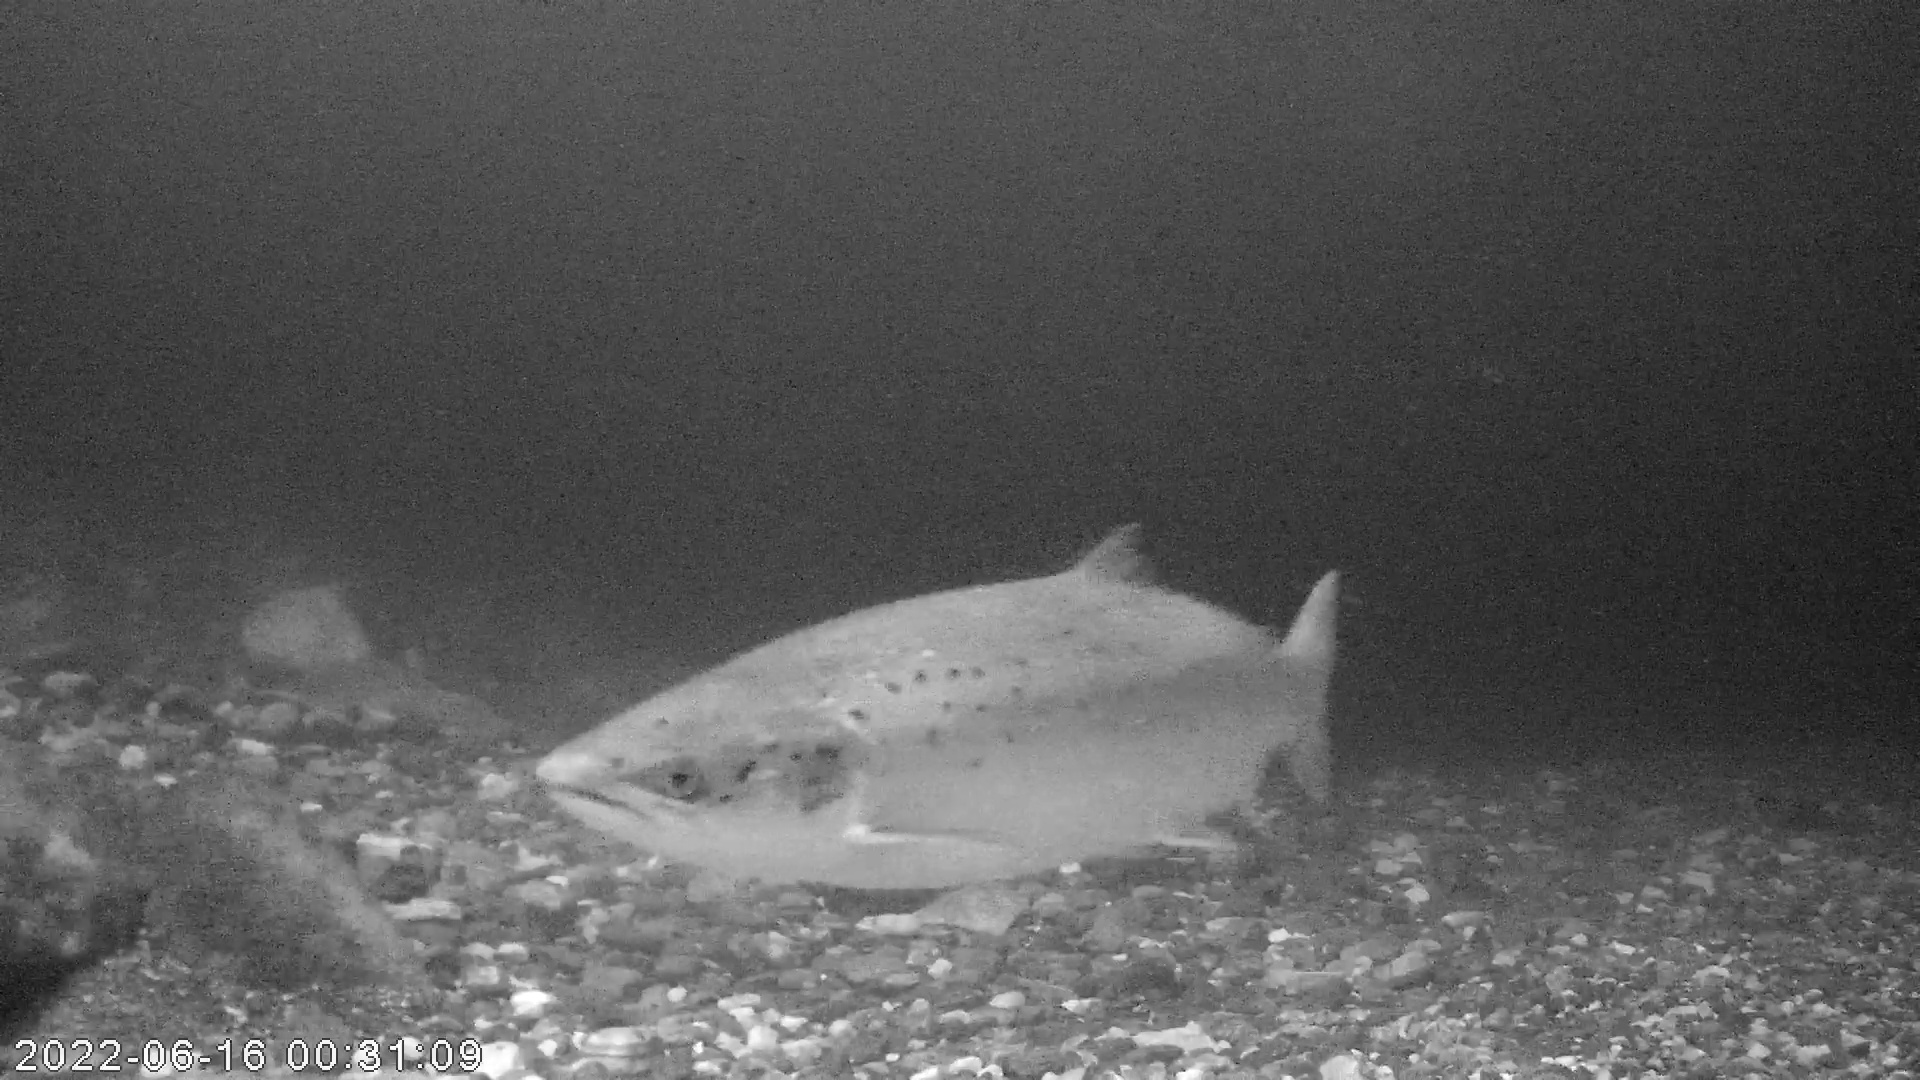salmon: (535, 513, 1345, 895)
